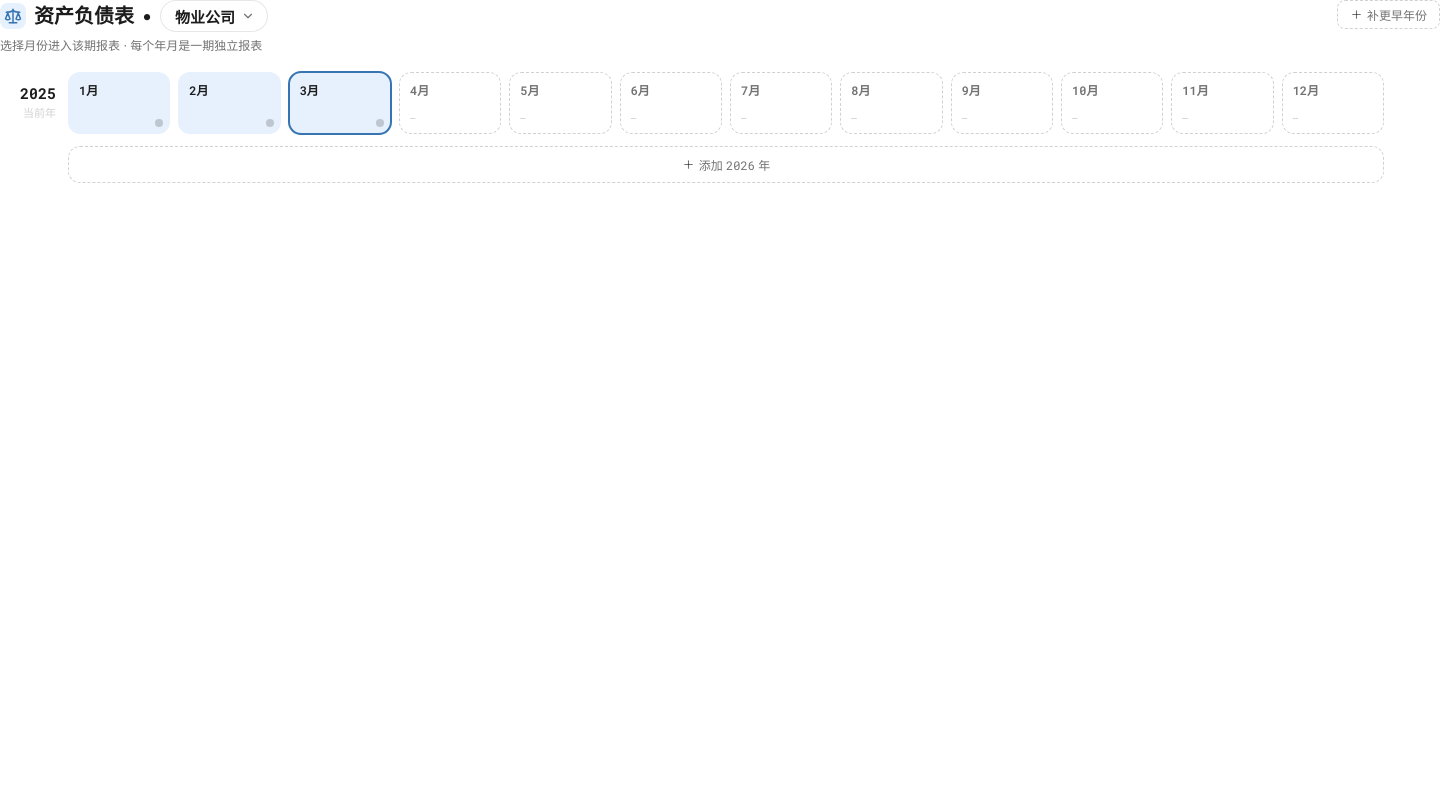
Test: 资产负债表 · 空状态与悬停说明 › ❗「换期」是带字的钮(期间条最左):不靠悬停说明,也没有原生 title
Click the button with class "bmm-card" showing "1月". click: (119, 103)
box: x1=68 y1=72 x2=170 y2=134
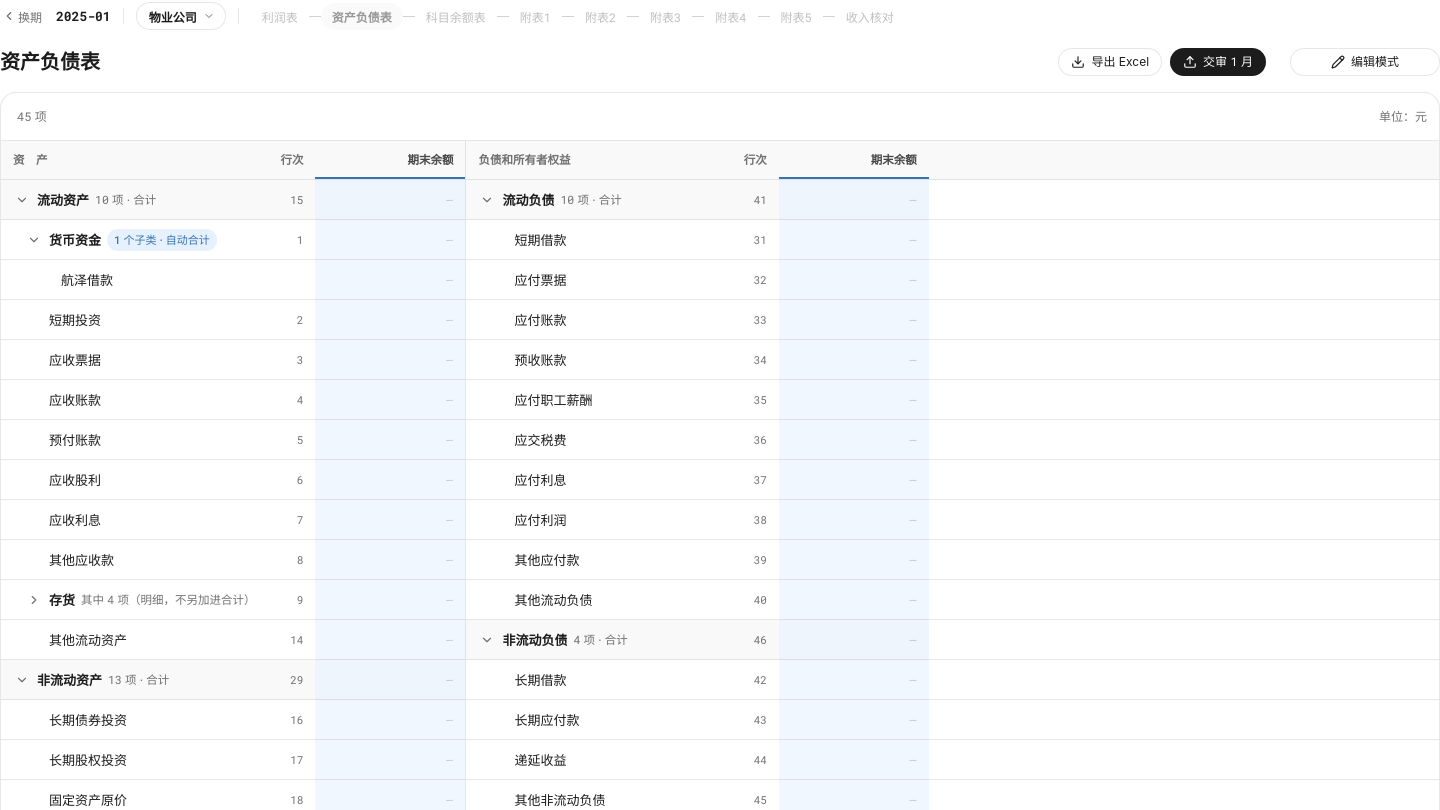
Expected: the button with class "fpb-back" reads "换期", x1=0 y1=4 x2=44 y2=28
